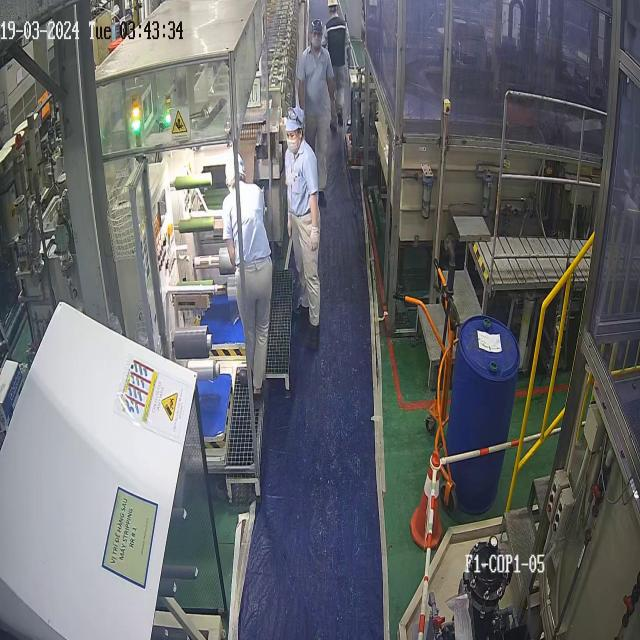Person: (221, 149, 273, 411), (284, 106, 321, 351), (296, 18, 337, 207), (321, 0, 352, 129)
